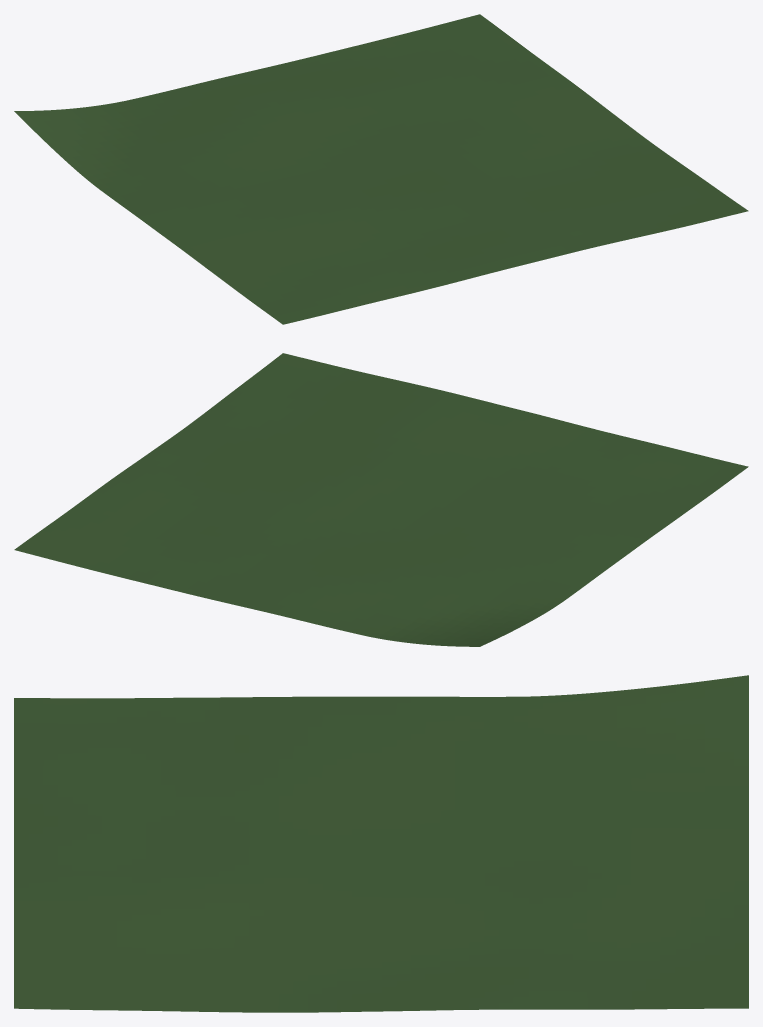
The model's file is chunk1-0_LOD0.obj.
3 views of the same model, one above another, from view 1: azimuth 30°, elevation 25°; view 2: azimuth 150°, elevation 25°; view 3: azimuth 270°, elevation 25° (orthographic). The views are drawn at different scales.
Visible parts, largest first — view 1: Terrain; view 2: Terrain; view 3: Terrain.
Part boxes in pixels (x1=…): Terrain: x1=14, y1=14, x2=748, y2=324; Terrain: x1=14, y1=353, x2=748, y2=646; Terrain: x1=14, y1=675, x2=748, y2=1012.
Size of the model in its own units: 4000 by 162 by 4000.
